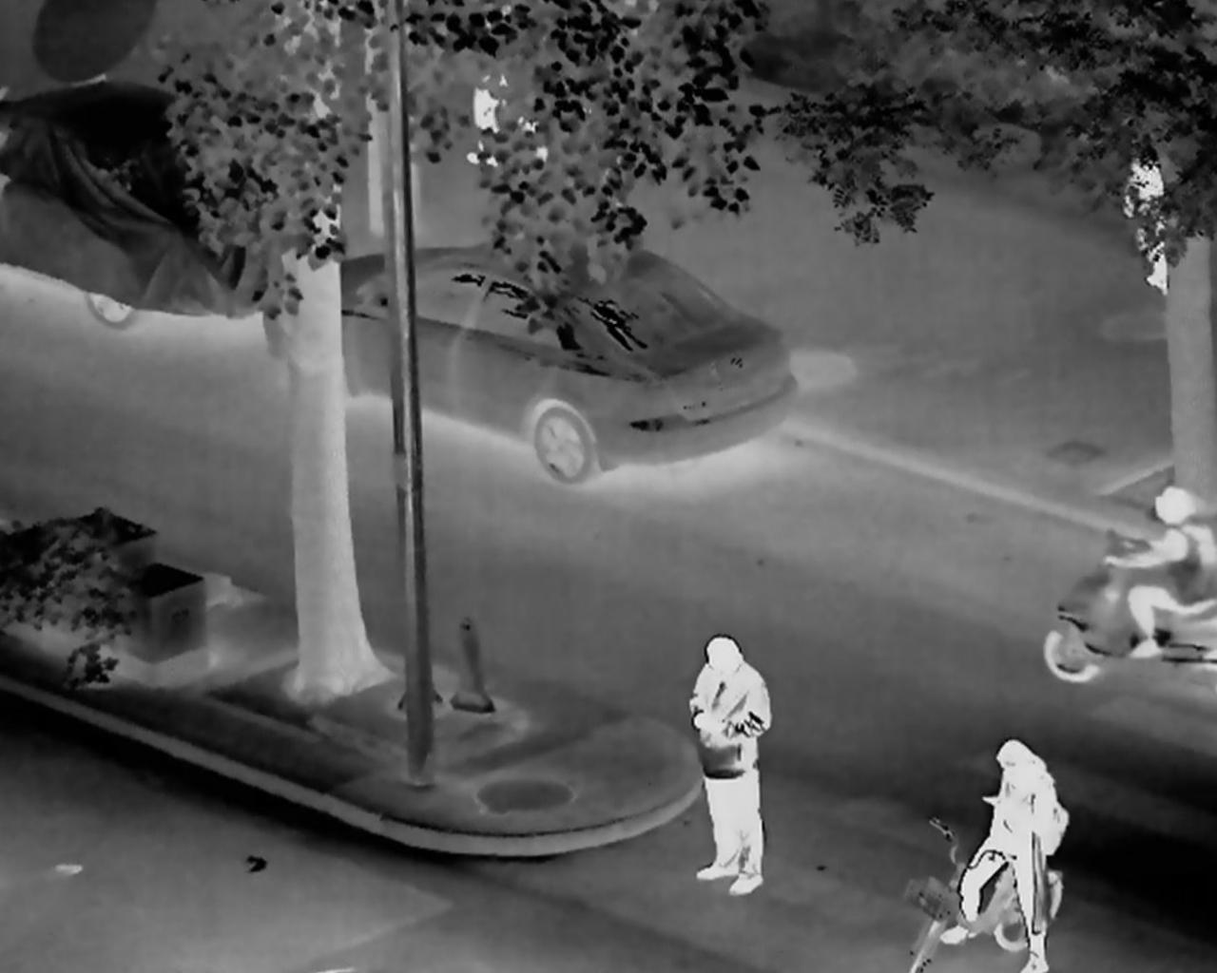person: (938, 740, 1064, 973), (686, 634, 771, 897), (1107, 490, 1214, 659)
